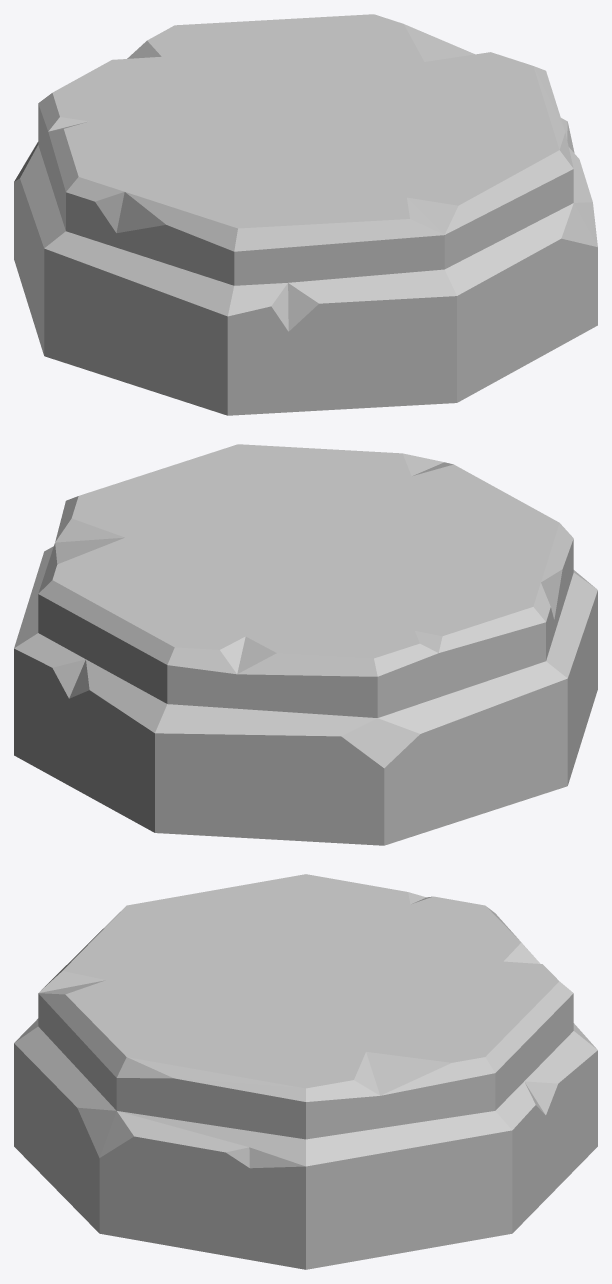
File: SM_Gen_Prop_Plinth_01.glb
3 renders of one model, top to bottom at view 1: azimuth 30°, elevation 25°; view 2: azimuth 150°, elevation 25°; view 3: azimuth 270°, elevation 25°, orthographic. The views are drawn at different scales.
Visible parts, largest first — view 1: SM_Gen_Prop_Plinth_01; view 2: SM_Gen_Prop_Plinth_01; view 3: SM_Gen_Prop_Plinth_01.
Part boxes in pixels (x1,y1,x2,y2): SM_Gen_Prop_Plinth_01: (14, 14, 597, 415); SM_Gen_Prop_Plinth_01: (14, 444, 597, 845); SM_Gen_Prop_Plinth_01: (14, 874, 597, 1269).
Size of the model in its own units: 1.11 by 0.3465 by 1.11.
Materials: 1 (1 with a texture image).
